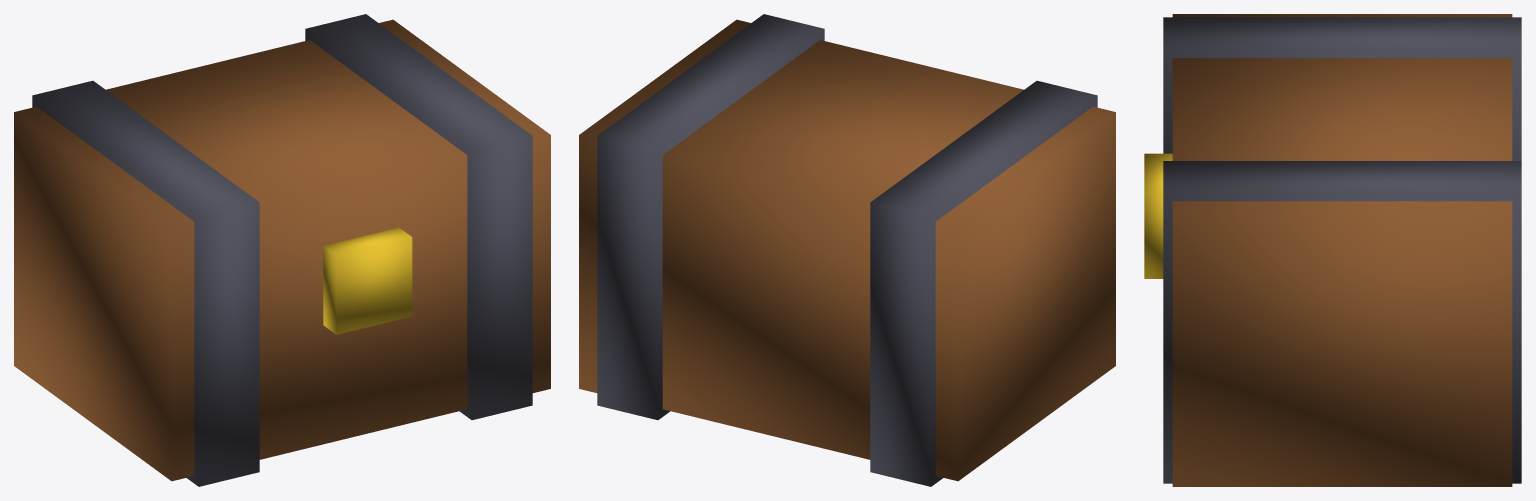
The model's file is voxel_chest.obj.
The picture shows the model from 3 angles, left to right: view 1: azimuth 30°, elevation 25°; view 2: azimuth 150°, elevation 25°; view 3: azimuth 270°, elevation 25°; orthographic projection. The views are drawn at different scales.
Parts seen in each view (by area): view 1: voxel_chest; view 2: voxel_chest; view 3: voxel_chest.
Boxes of the visible parts, x1,y1,x2,y2 form: voxel_chest: [14, 14, 550, 486]; voxel_chest: [579, 14, 1115, 486]; voxel_chest: [1144, 14, 1521, 486].
Size of the model in its own units: 0.5 by 0.34 by 0.4.
